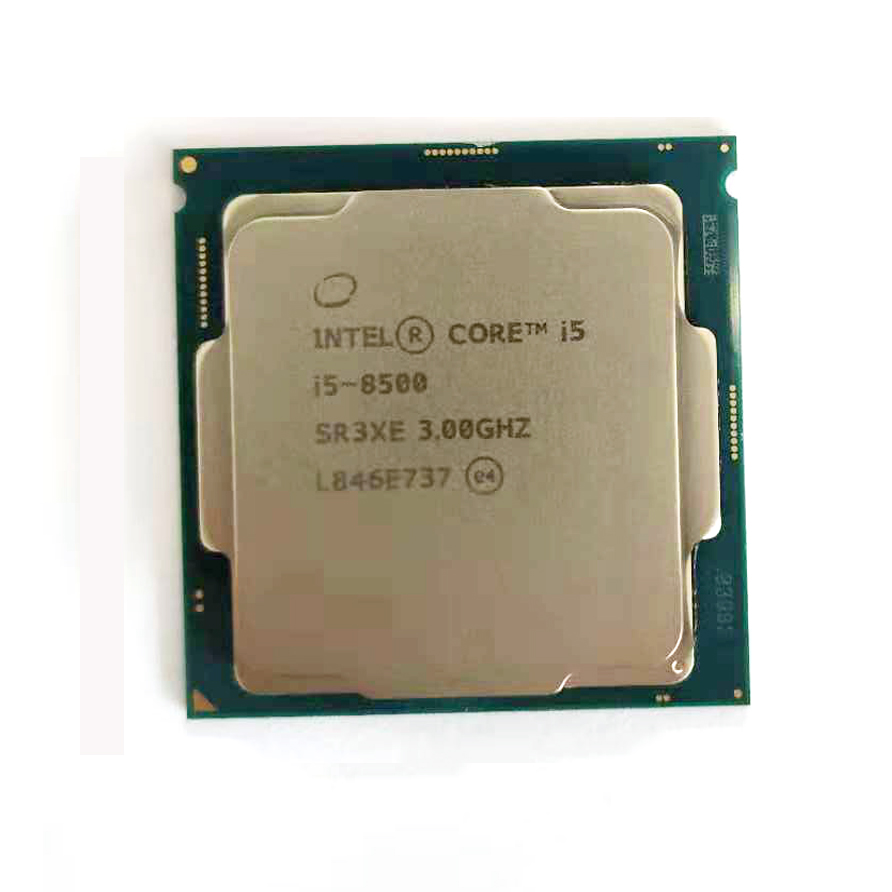Processor: (102, 116, 821, 736)
